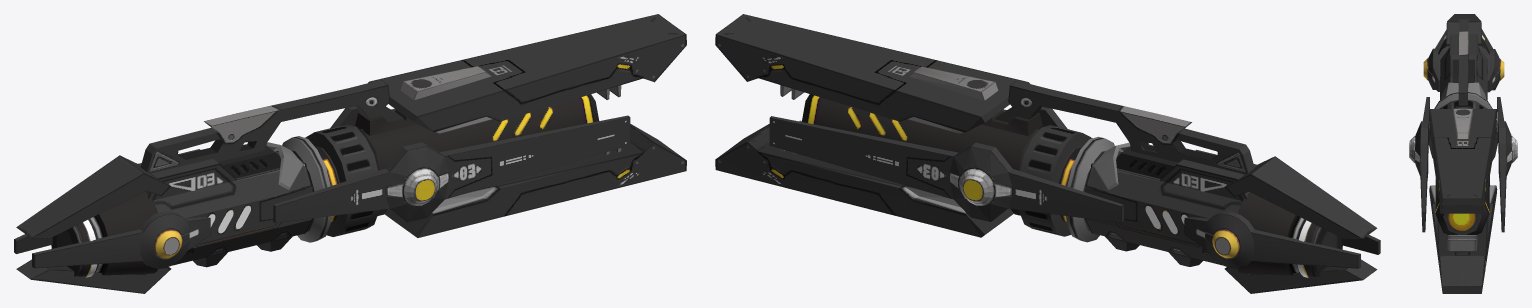
Rendered from E3SleeveMd080011 #1068264.fbx.
The picture shows the model from 3 angles, left to right: view 1: azimuth 30°, elevation 25°; view 2: azimuth 150°, elevation 25°; view 3: azimuth 270°, elevation 25°; orthographic projection. The views are drawn at different scales.
Visible parts, largest first — view 1: E3SleeveMd080011; view 2: E3SleeveMd080011; view 3: E3SleeveMd080011.
Boxes of the visible parts, x1,y1,x2,y2 form: E3SleeveMd080011: [14, 14, 686, 293]; E3SleeveMd080011: [715, 14, 1380, 293]; E3SleeveMd080011: [1409, 14, 1517, 293].
Bounding box in the file's own units: 1.55 × 0.3451 × 0.3207.
2 materials, 1 textured.
